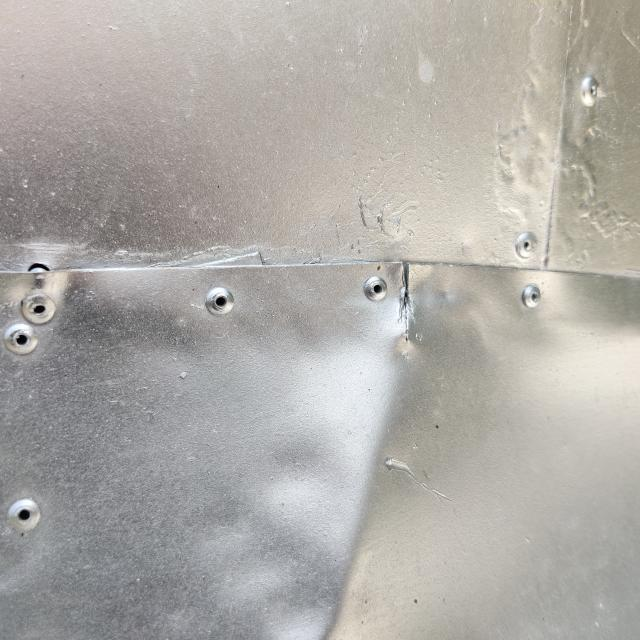crack: (376, 251, 438, 354)
dent: (256, 347, 441, 640)
